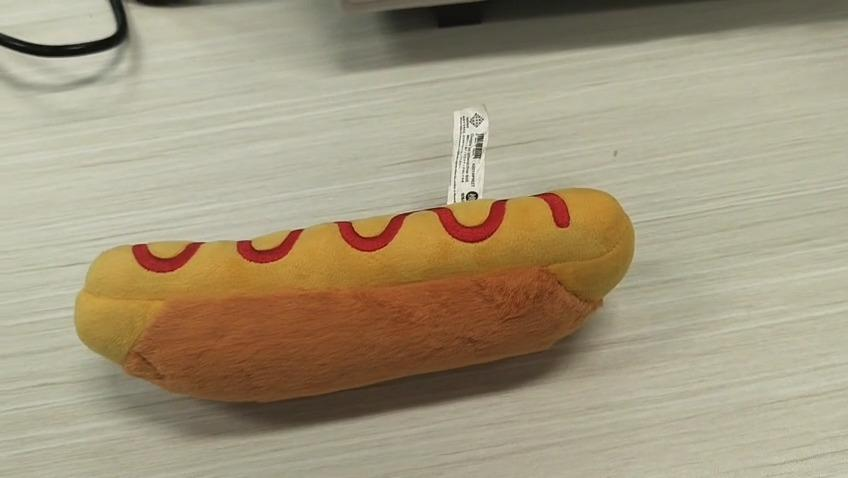hotdog: (73, 184, 635, 404)
